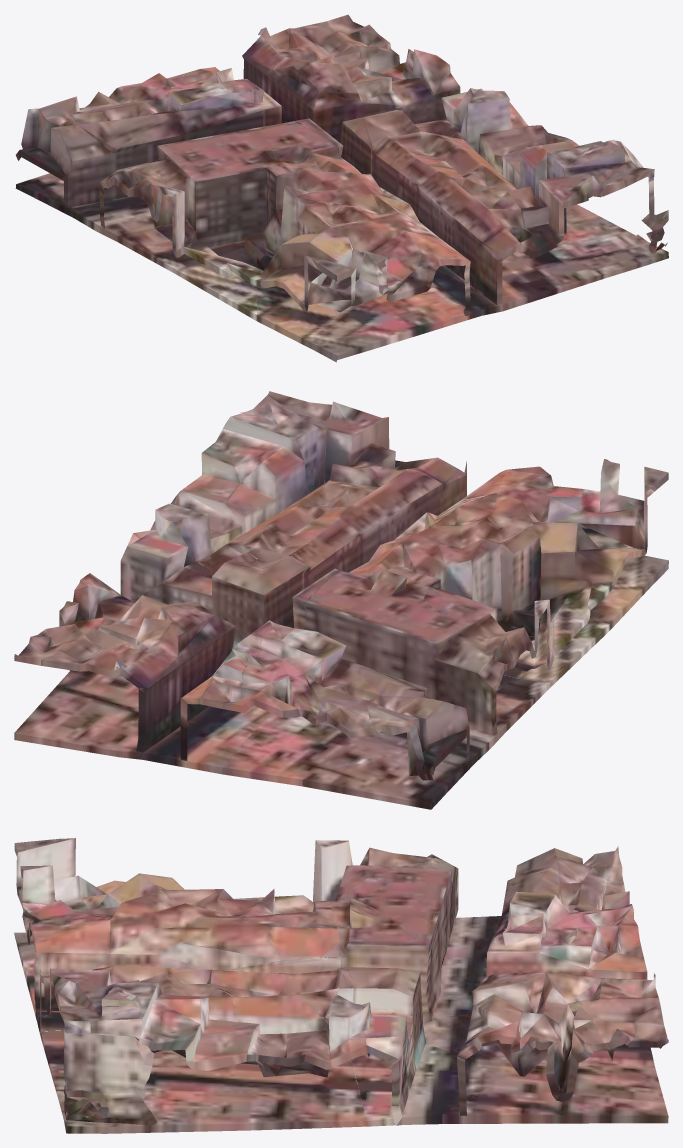
The picture shows the model from 3 angles, top to bottom: view 1: azimuth 30°, elevation 25°; view 2: azimuth 150°, elevation 25°; view 3: azimuth 270°, elevation 25°; orthographic projection. The views are drawn at different scales.
Parts seen in each view (by area): view 1: Mesh_0; view 2: Mesh_0; view 3: Mesh_0.
Part boxes in pixels (bbox=[...]): Mesh_0: bbox=[15, 14, 668, 362]; Mesh_0: bbox=[14, 391, 668, 809]; Mesh_0: bbox=[14, 838, 668, 1133].
Size of the model in its own units: 134 by 38.15 by 165.
1 material, 1 textured.
